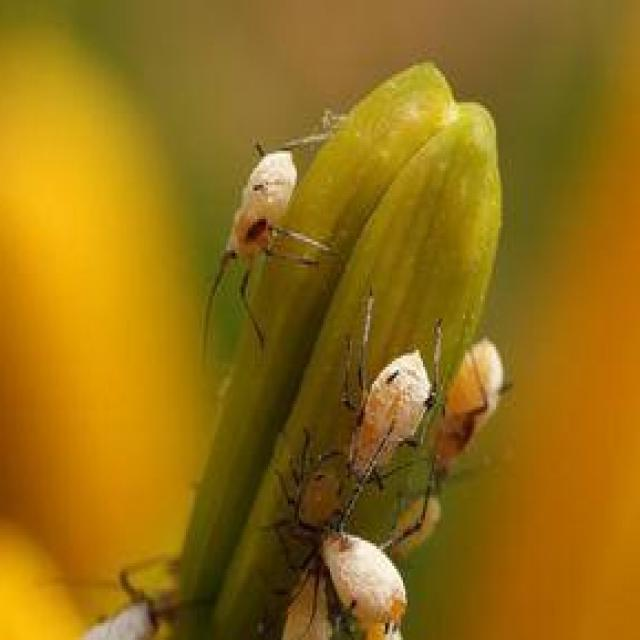aphid: (206, 135, 292, 304), (335, 346, 427, 485), (430, 341, 504, 482), (322, 529, 408, 635)
